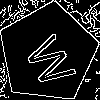W: (23, 28, 85, 92)
